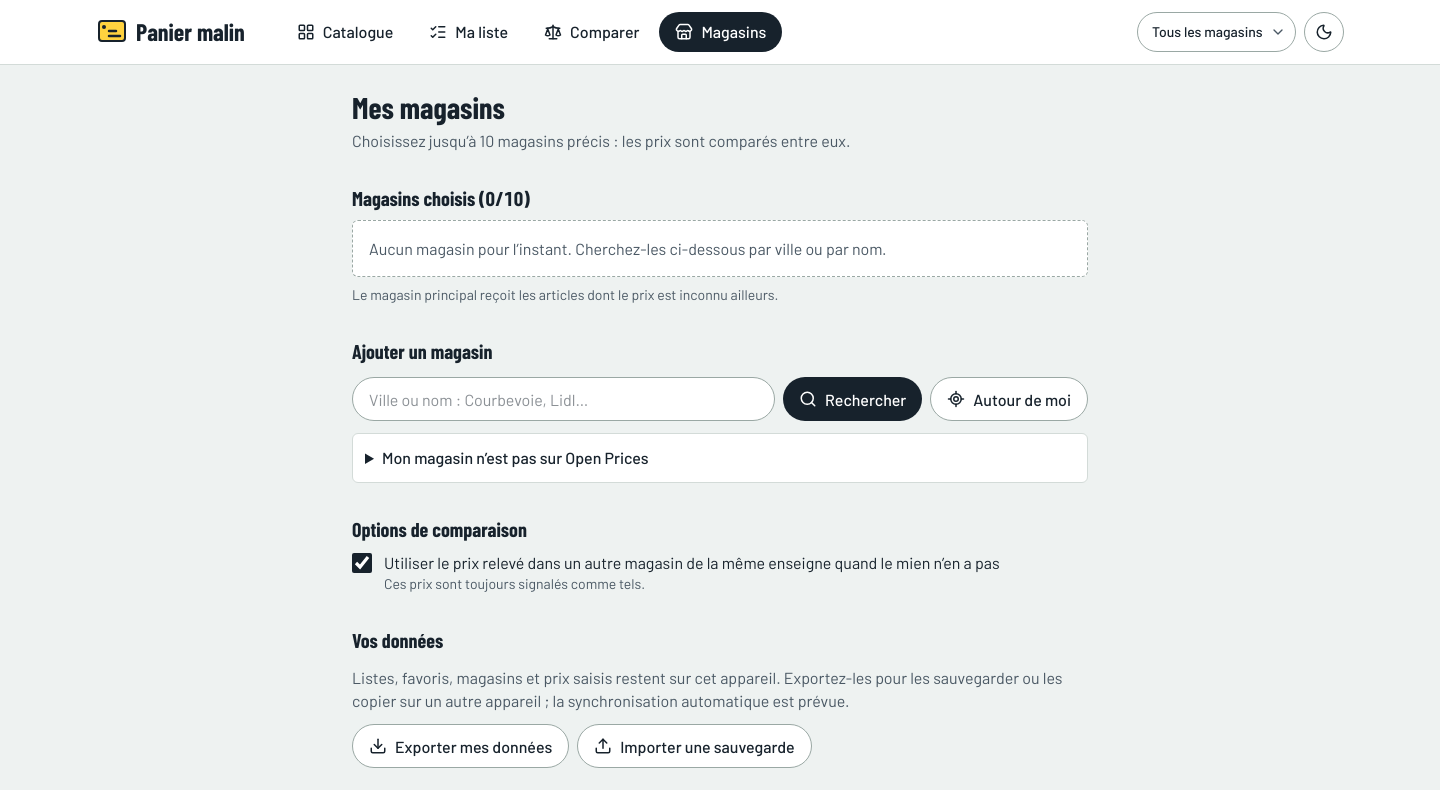
mes magasins › ajoute à la main un magasin absent d’Open Prices, puis le retire
Click the heading "Mon magasin n’est pas sur Open Prices": {"x": 515, "y": 458} [382,448,649,467]
(page scrolled)
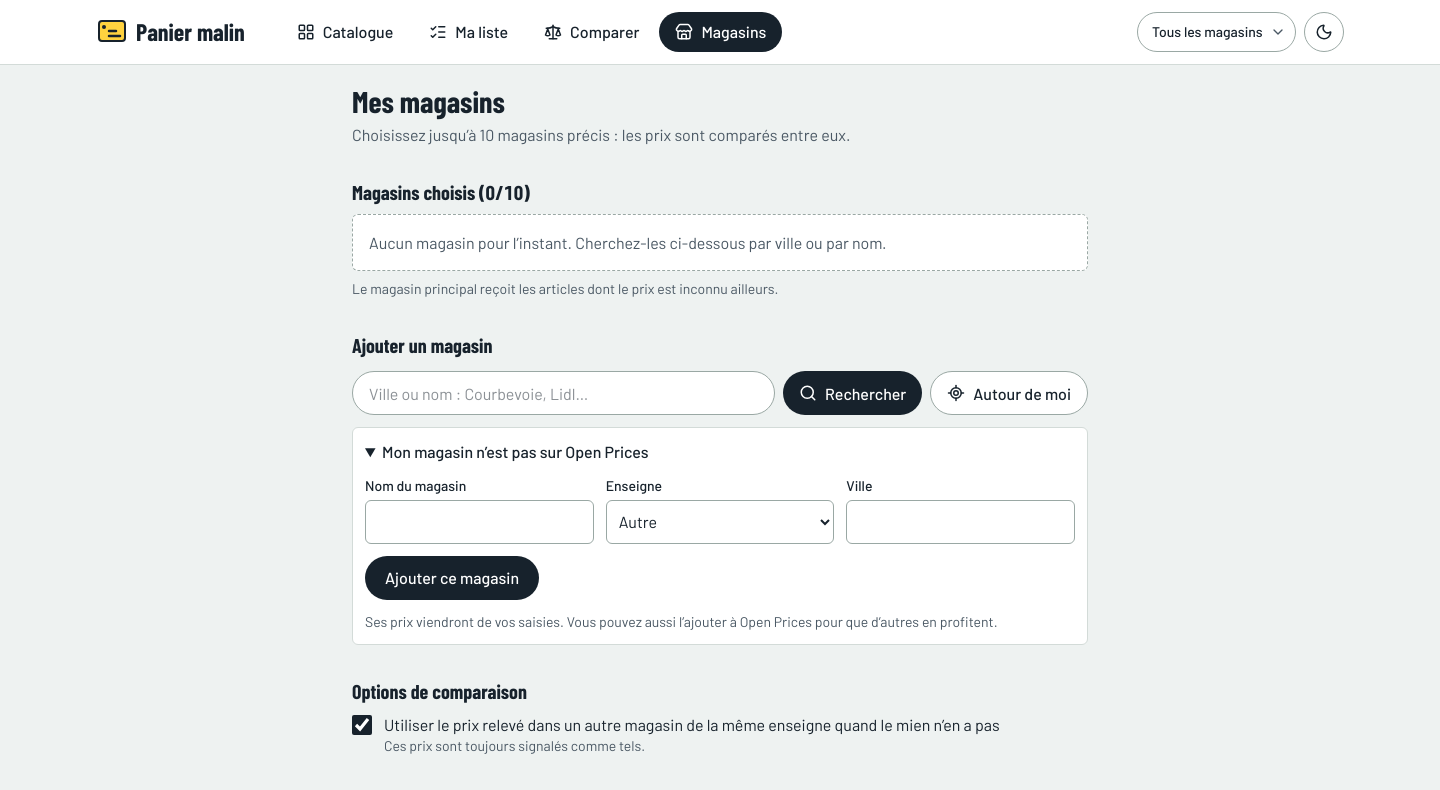
In the field labelled "Nom du magasin": {"x": 479, "y": 522} [365,500,594,544], type "Marka Market"
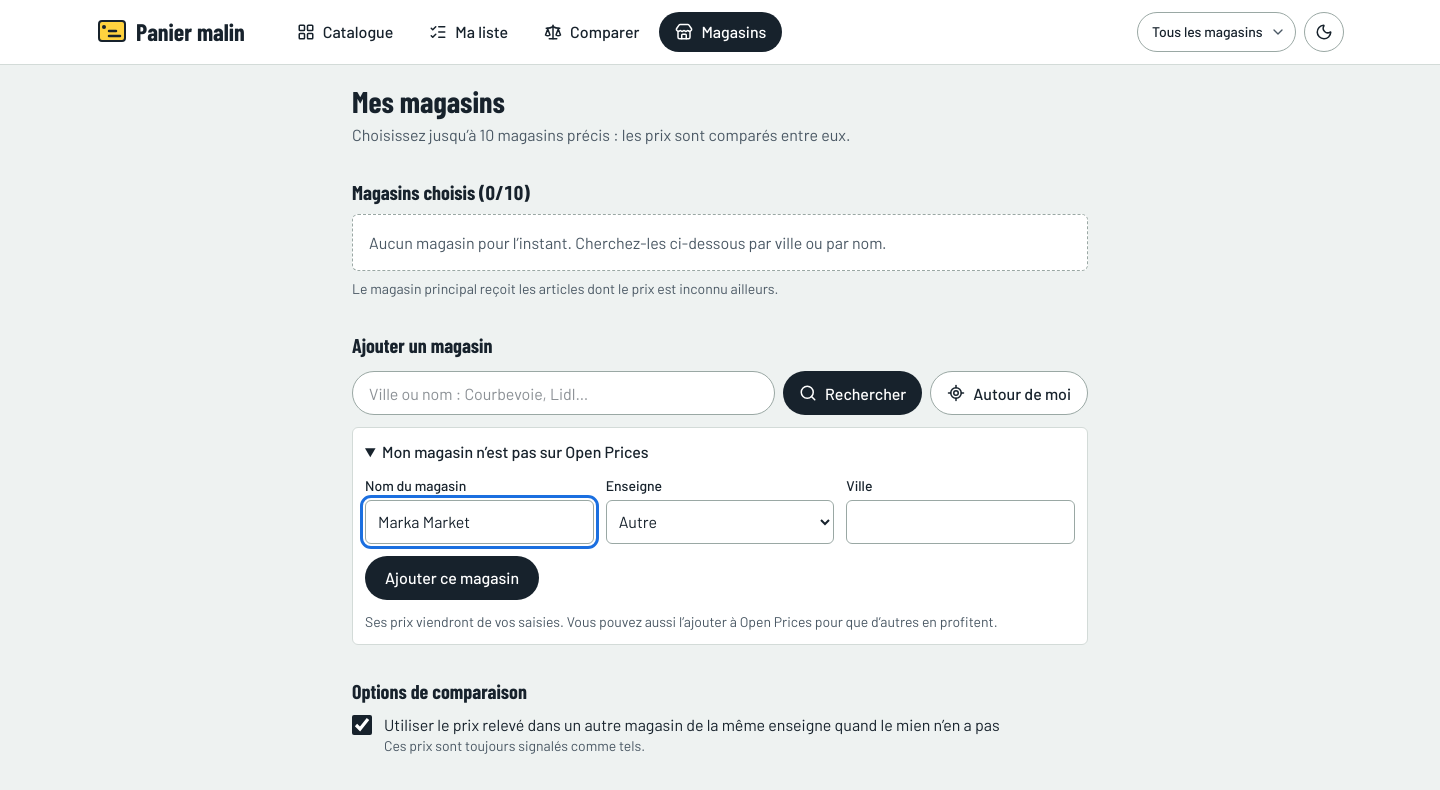
Select "Marka Market" in the dropdown labelled "Enseigne": {"x": 720, "y": 522} [606,500,834,544]
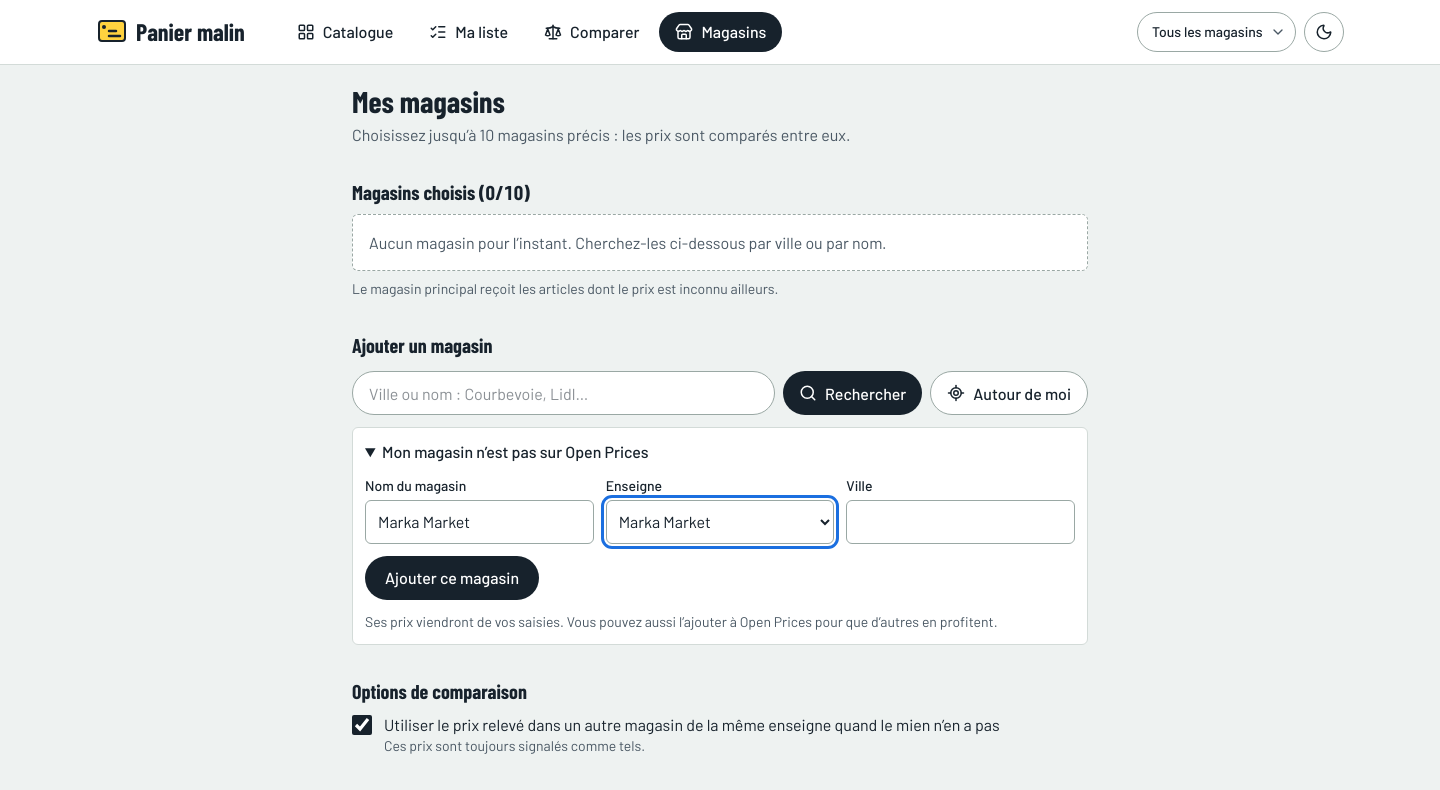
In the field labelled "Ville": {"x": 961, "y": 522} [846,500,1075,544], type "Paris"
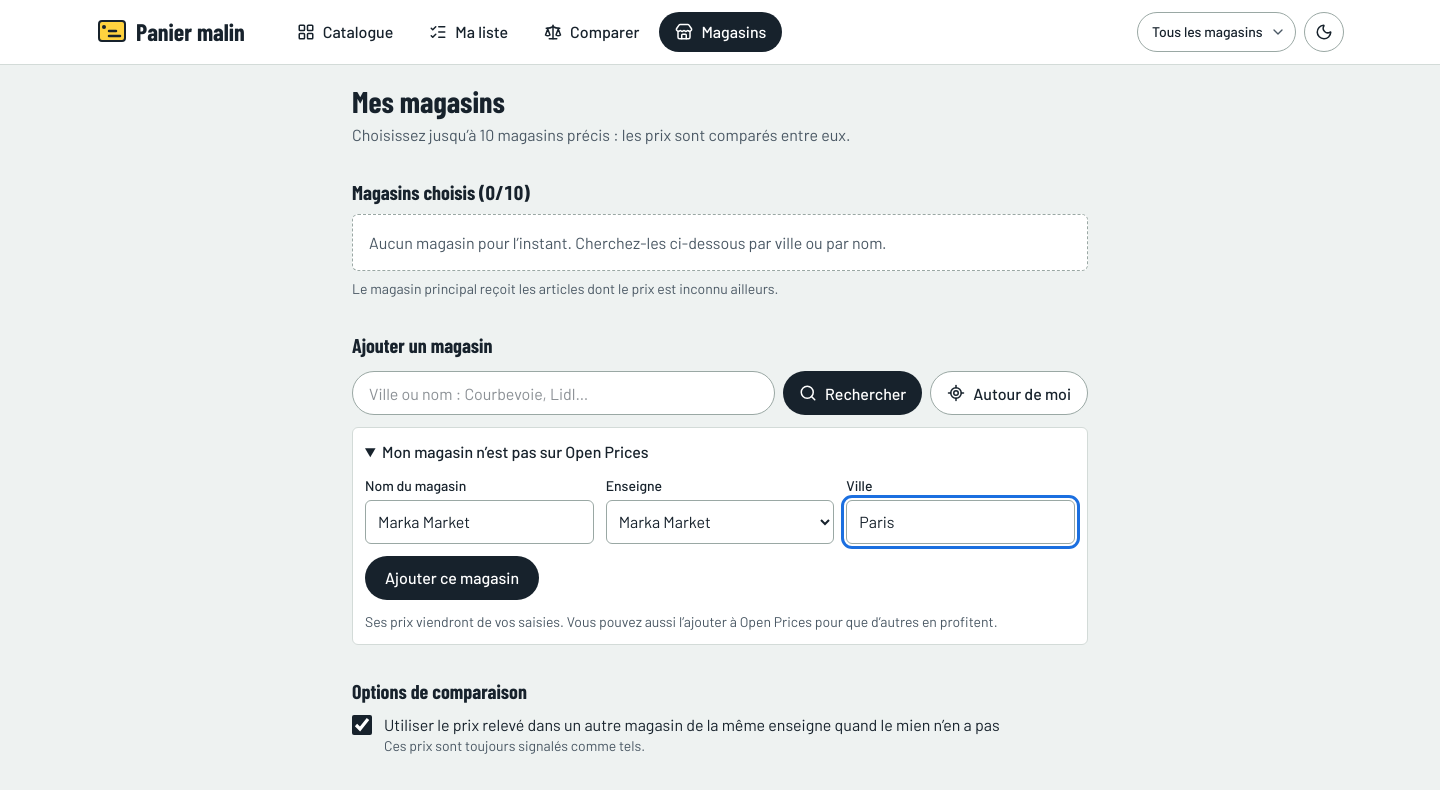
Click the button "Ajouter ce magasin": {"x": 452, "y": 578} [365,556,539,600]
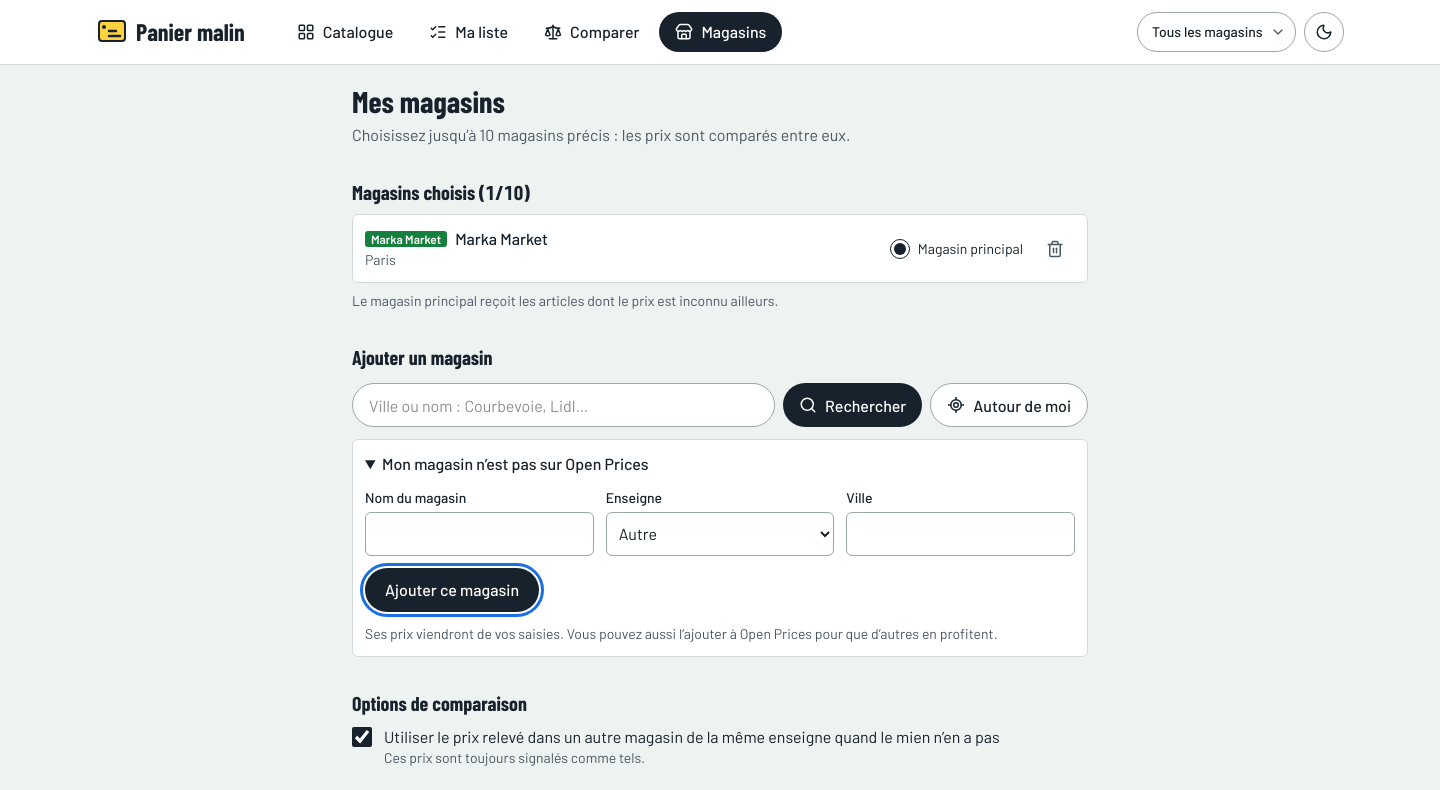
Check: the button named "Retirer Marka Market, Paris" is shown
Click the button named "Retirer Marka Market, Paris": {"x": 1055, "y": 249} [1035,229,1075,269]
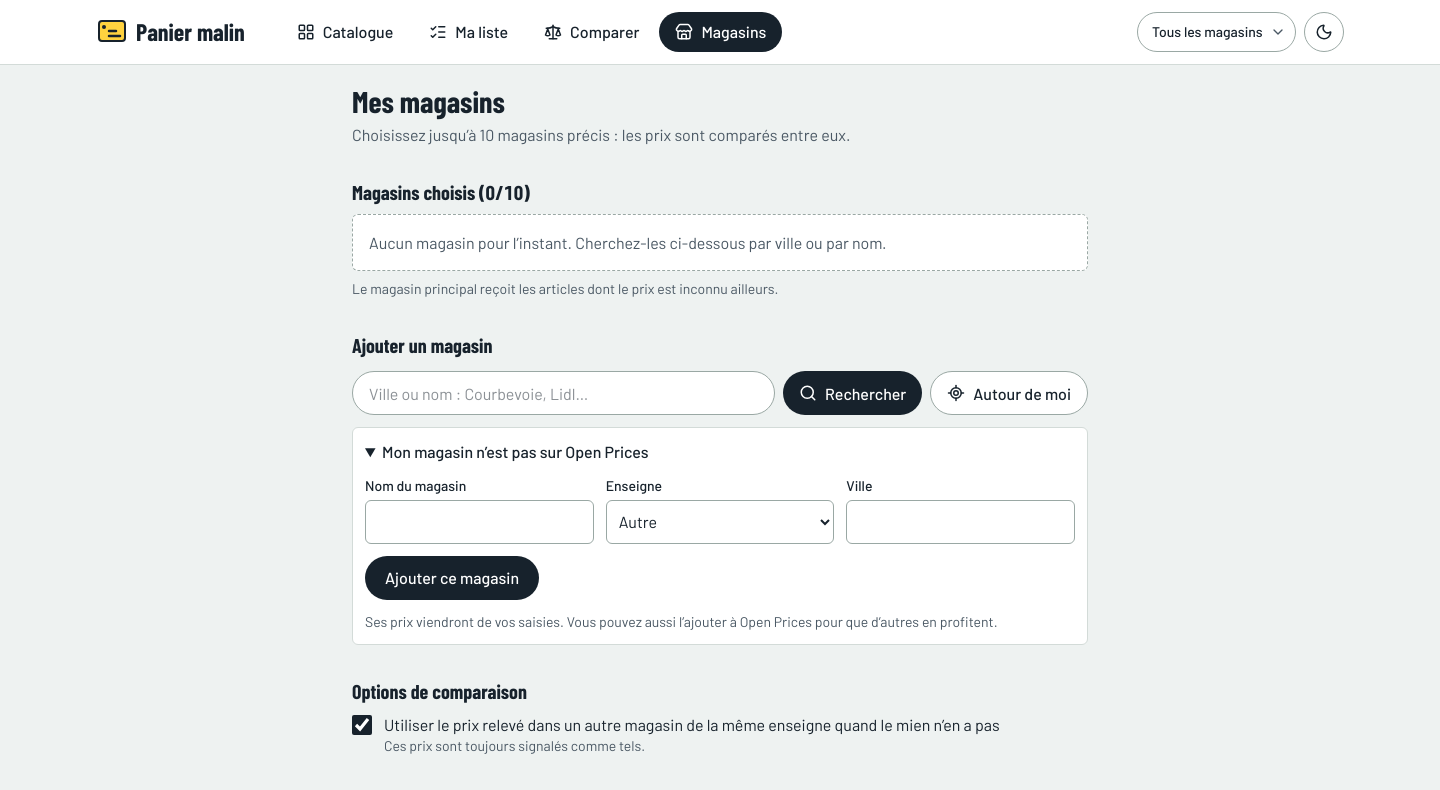
Check: the heading "Magasins choisis (0/10)" is shown, box [352,180,530,204]
